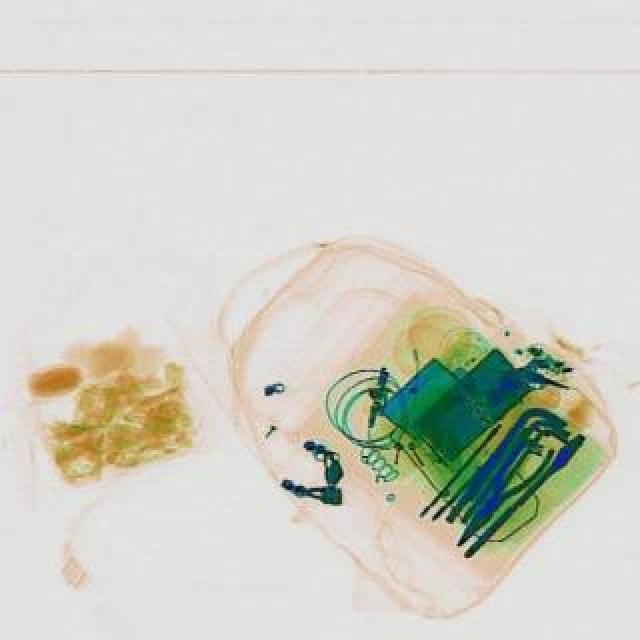wrench: (440, 430, 556, 558)
